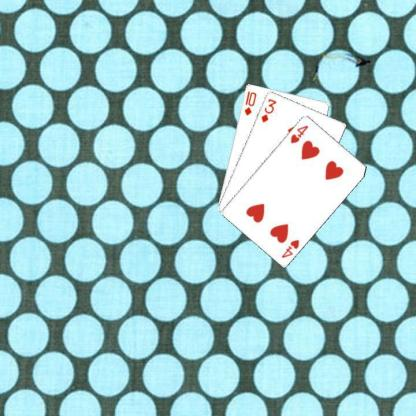10D: (242, 88, 257, 117)
3D: (258, 96, 278, 124)
4H: (288, 122, 310, 145), (279, 237, 301, 259)
